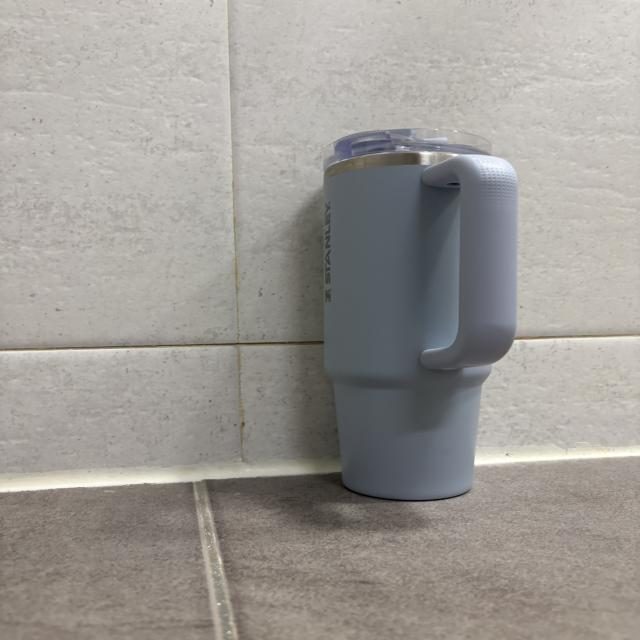waterbottle: (323, 127, 518, 502)
